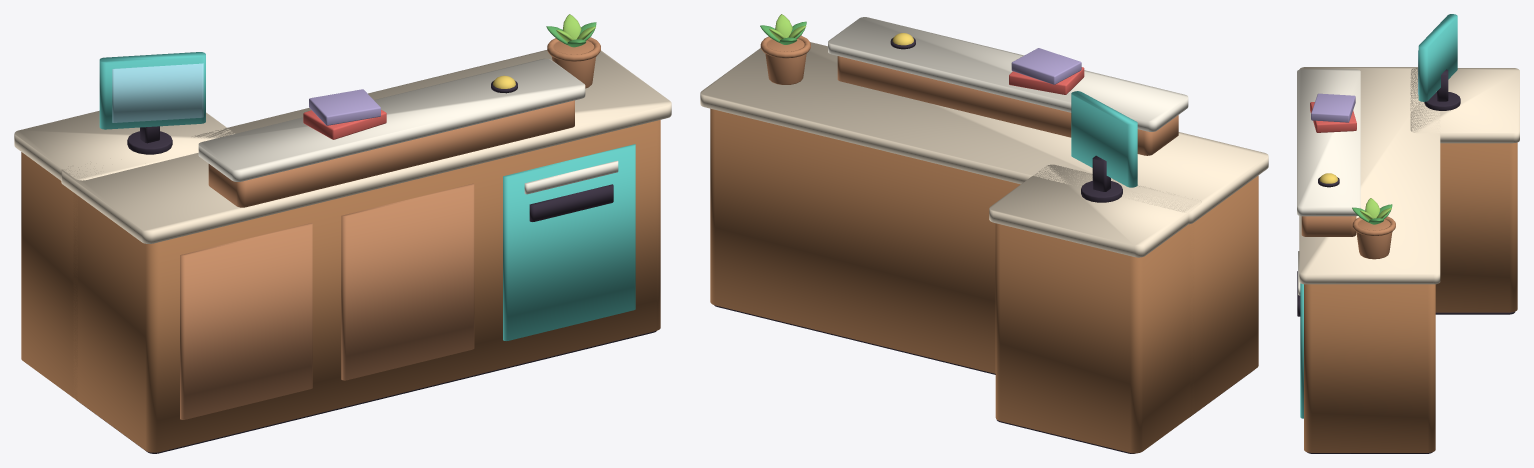
File: librarian-checkout-desk.glb
The picture shows the model from 3 angles, left to right: view 1: azimuth 30°, elevation 25°; view 2: azimuth 150°, elevation 25°; view 3: azimuth 270°, elevation 25°; orthographic projection. The views are drawn at different scales.
Visible parts, largest first — view 1: LibCheckoutDesk_WoodCabinet, LibCheckoutDesk_TerracottaPanels, LibCheckoutDesk_CreamCounter, LibCheckoutDesk_TurquoiseMonitorAndSlot, LibCheckoutDesk_CreamLedge, LibCheckoutDesk_SkyBlueScreen, LibCheckoutDesk_SlateSlotAndStand, LibCheckoutDesk_LavenderBook, LibCheckoutDesk_CoralBook; view 2: LibCheckoutDesk_WoodCabinet, LibCheckoutDesk_CreamCounter, LibCheckoutDesk_CreamLedge, LibCheckoutDesk_TerracottaPanels, LibCheckoutDesk_TurquoiseMonitorAndSlot, LibCheckoutDesk_SlateSlotAndStand, LibCheckoutDesk_LavenderBook, LibCheckoutDesk_CoralBook; view 3: LibCheckoutDesk_WoodCabinet, LibCheckoutDesk_CreamCounter, LibCheckoutDesk_CreamLedge, LibCheckoutDesk_TurquoiseMonitorAndSlot, LibCheckoutDesk_TerracottaPanels, LibCheckoutDesk_SlateSlotAndStand, LibCheckoutDesk_LavenderBook, LibCheckoutDesk_CoralBook, LibCheckoutDesk_GrassGreenPlant, LibCheckoutDesk_LeafGreenPlant.
Part boxes in pixels (x1,y1,x2,y2): LibCheckoutDesk_WoodCabinet: (21,120,660,452); LibCheckoutDesk_TerracottaPanels: (180,37,600,419); LibCheckoutDesk_CreamCounter: (14,50,671,243); LibCheckoutDesk_TurquoiseMonitorAndSlot: (99,52,635,340); LibCheckoutDesk_CreamLedge: (198,58,618,194); LibCheckoutDesk_SkyBlueScreen: (112,63,203,122); LibCheckoutDesk_SlateSlotAndStand: (79,80,656,453); LibCheckoutDesk_LavenderBook: (309,89,380,125); LibCheckoutDesk_CoralBook: (303,110,386,139); LibCheckoutDesk_WoodCabinet: (710,108,1258,453); LibCheckoutDesk_CreamCounter: (700,42,1268,257); LibCheckoutDesk_CreamLedge: (828,17,1188,131); LibCheckoutDesk_TerracottaPanels: (760,35,1178,155); LibCheckoutDesk_TurquoiseMonitorAndSlot: (1071,91,1137,187); LibCheckoutDesk_SlateSlotAndStand: (714,37,1249,453); LibCheckoutDesk_LavenderBook: (1011,48,1081,84); LibCheckoutDesk_CoralBook: (1009,67,1084,94); LibCheckoutDesk_WoodCabinet: (1304,142,1517,452); LibCheckoutDesk_CreamCounter: (1299,67,1519,284); LibCheckoutDesk_CreamLedge: (1297,69,1360,295); LibCheckoutDesk_TurquoiseMonitorAndSlot: (1300,14,1457,418); LibCheckoutDesk_TerracottaPanels: (1301,216,1395,259); LibCheckoutDesk_SlateSlotAndStand: (1297,69,1514,453); LibCheckoutDesk_LavenderBook: (1311,93,1355,122); LibCheckoutDesk_CoralBook: (1310,102,1356,132); LibCheckoutDesk_GrassGreenPlant: (1360,198,1391,220); LibCheckoutDesk_LeafGreenPlant: (1352,204,1392,224).
Size of the model in its own units: 2.16 by 1.24 by 0.98.
